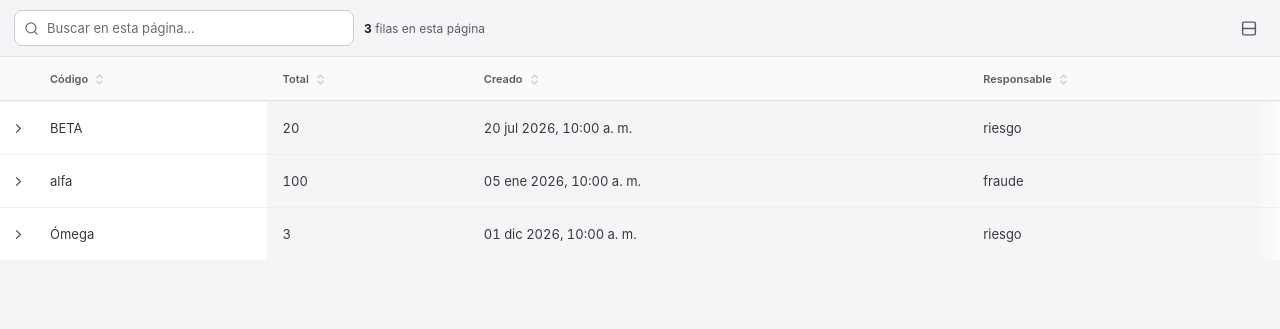
Scenario: DataTable › despliega una fila con todos sus valores completos
Click the button named "Ver el detalle completo" next to "BETA": (17, 128) [4,115,30,141]
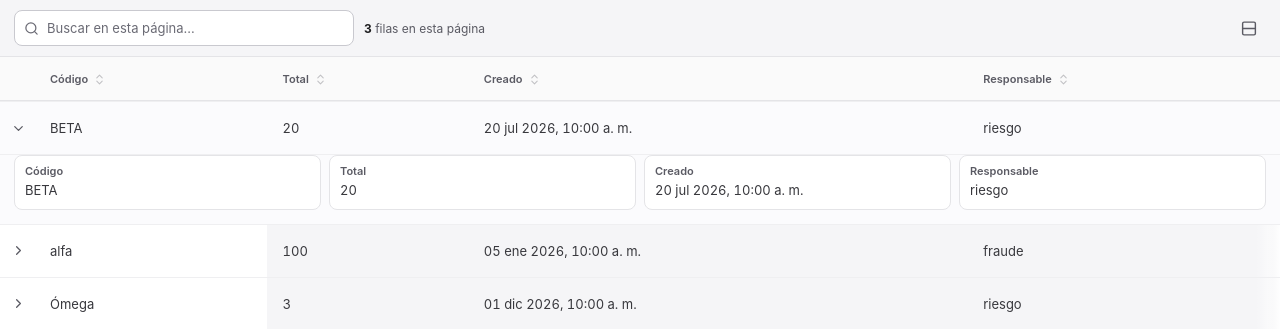
Result: the text "Responsable" is shown at [970,164,1038,178]
Result: the text "riesgo" is shown at [970,182,1008,198]
